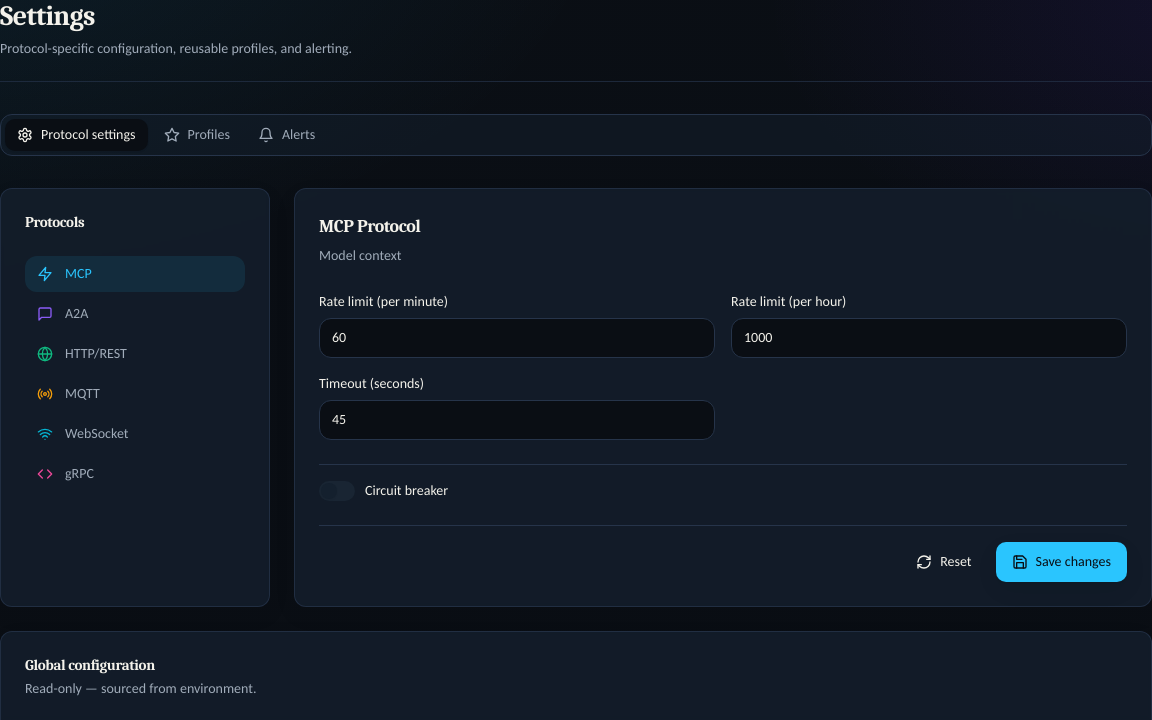
Scenario: Settings page › profiles tab › duplicates a profile into the form
What coordinates should you click on to do the following:
click the tab "Profiles"
I would click on:
 (197, 135)
Its box is [152, 119, 242, 151].
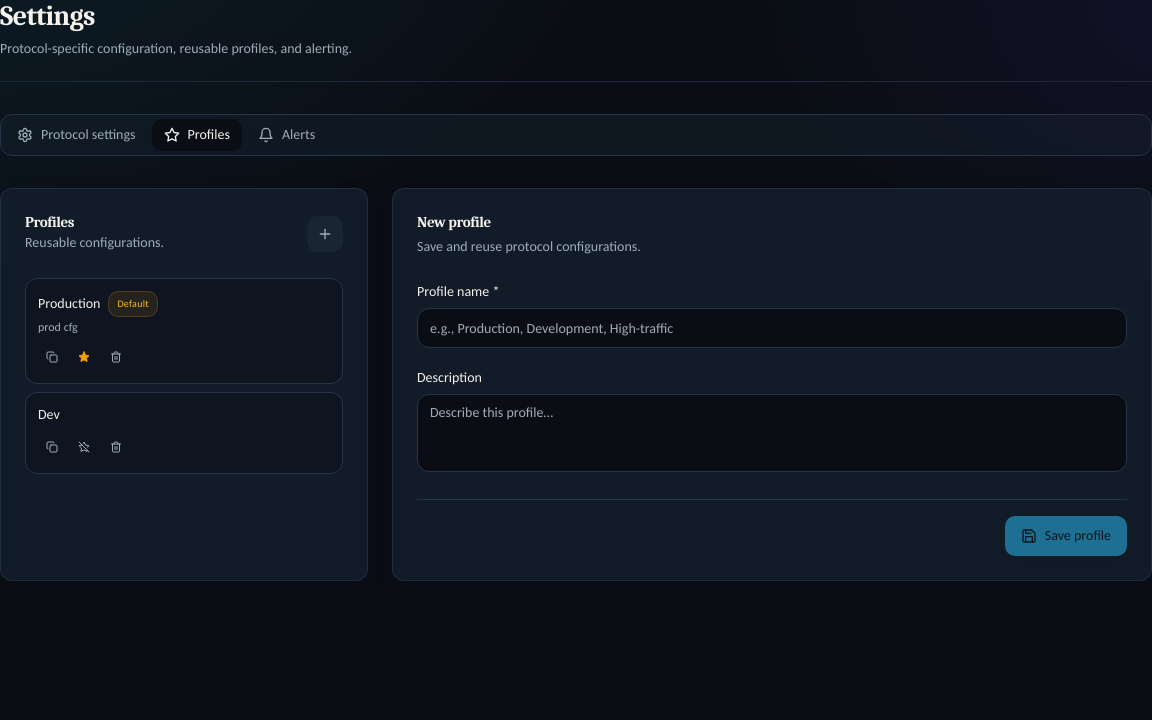
What coordinates should you click on to do the following:
click the button named "Duplicate profile" below "prod cfg"
I would click on:
 (52, 357)
Its box is [38, 343, 66, 371].
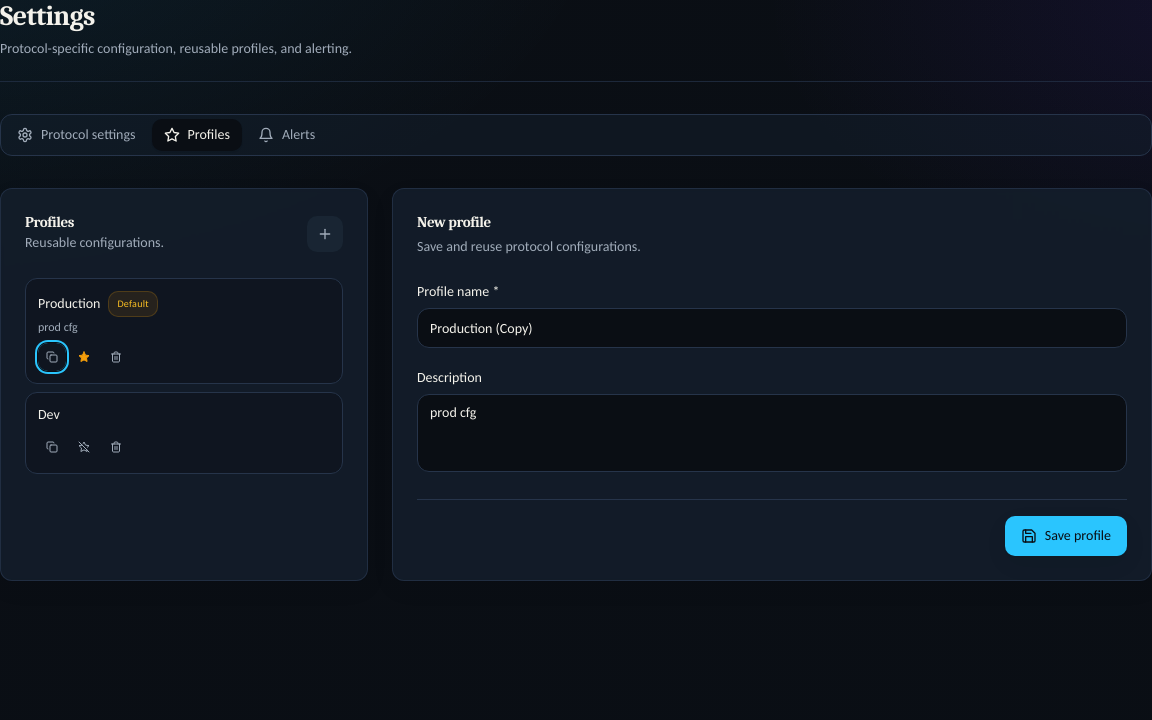
Now the field labelled "Profile name *" holds "Production (Copy)", box [417, 308, 1127, 348]
Now the text box labelled "Description" holds "prod cfg", box [417, 394, 1127, 472]
